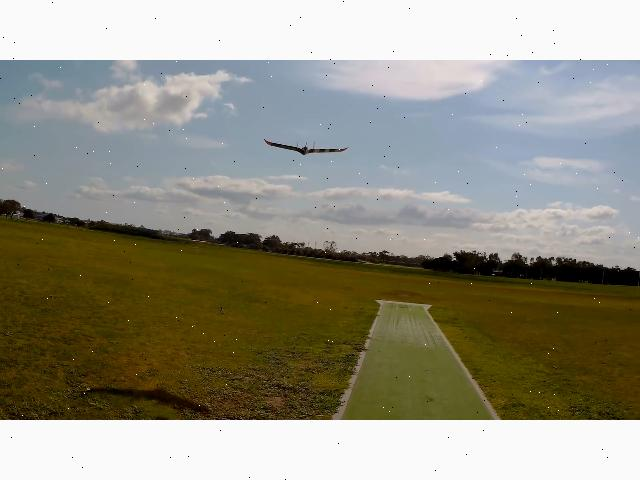Anti-Drone: (264, 139, 350, 155)
